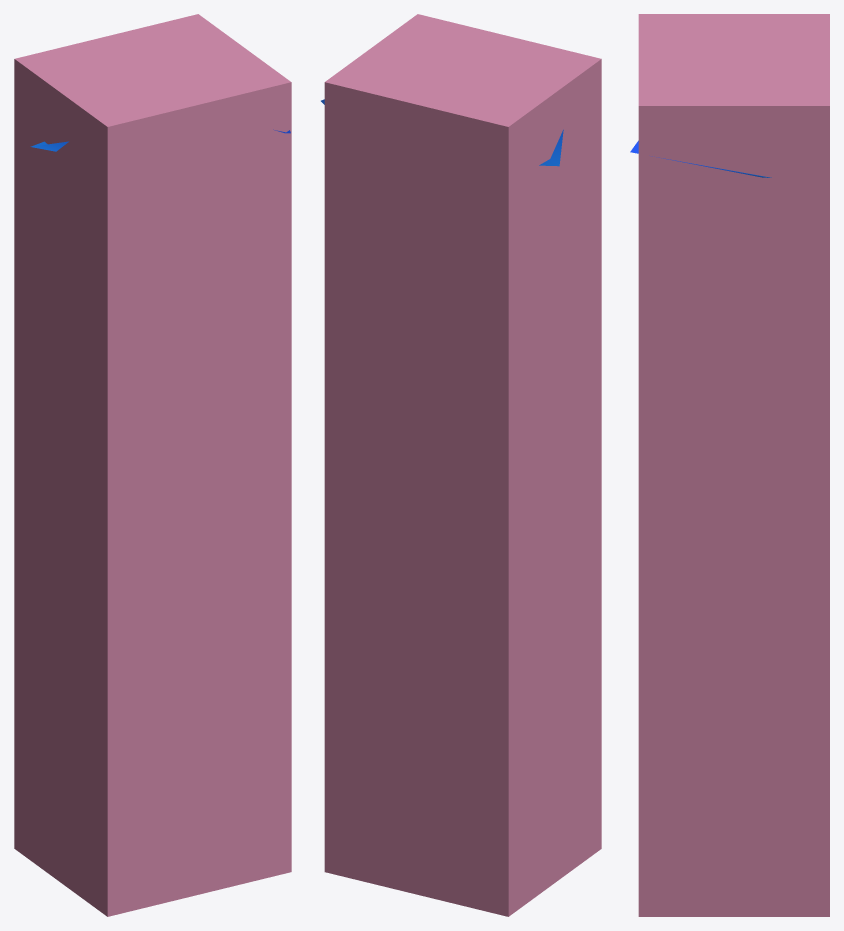
The model's file is vine_roof_small.dae.
3 renders of one model, left to right at view 1: azimuth 30°, elevation 25°; view 2: azimuth 150°, elevation 25°; view 3: azimuth 270°, elevation 25°, orthographic. The views are drawn at different scales.
Parts seen in each view (by area): view 1: Untitled; view 2: Untitled; view 3: Untitled.
Boxes of the visible parts, x1,y1,x2,y2 form: Untitled: (14,14,291,916); Untitled: (324,14,601,916); Untitled: (638,14,829,916).
Bounding box in the file's own units: 0.7323 × 0.5177 × 2.32.
